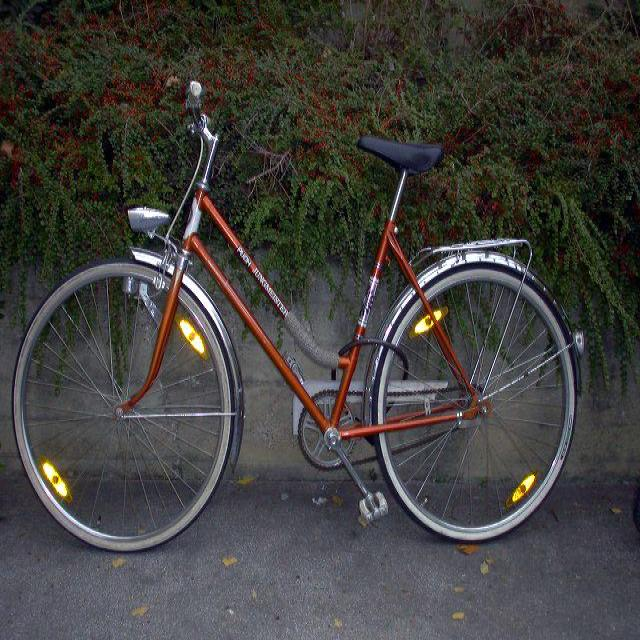bicycle: (11, 79, 584, 552)
